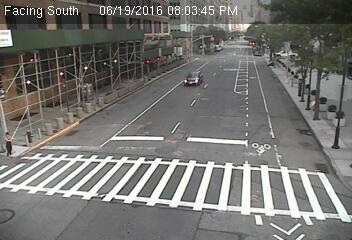neg: (52, 67, 72, 94)
